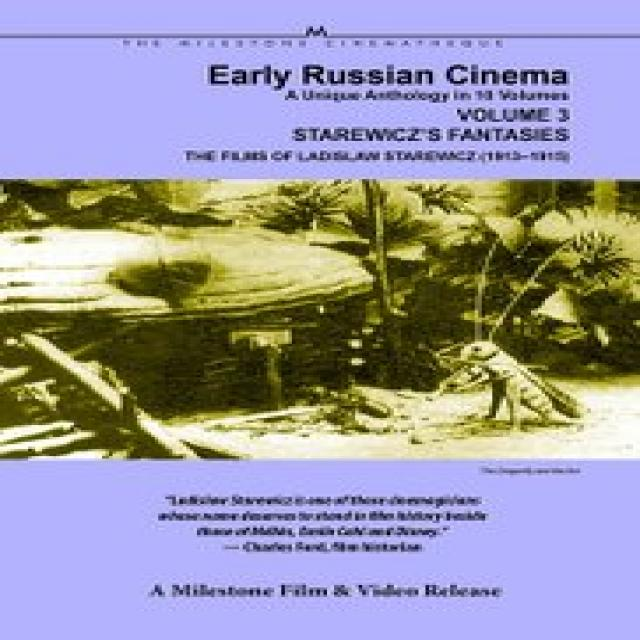movie-judul: (294, 103, 578, 147)
picture: (0, 177, 640, 456)
